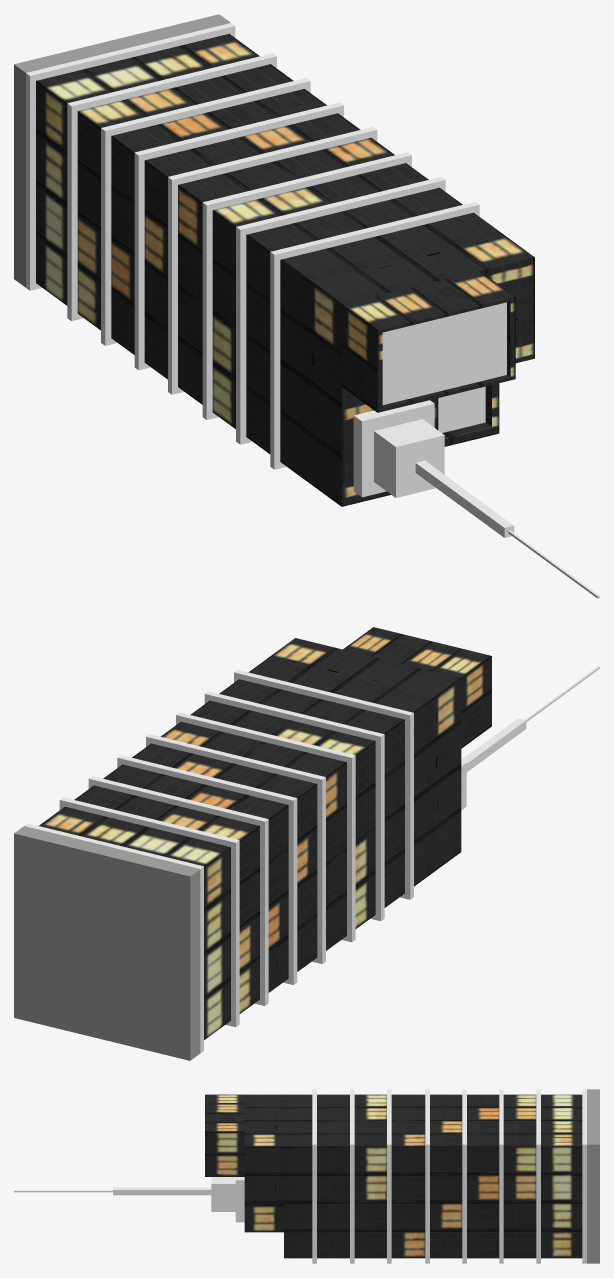
The model's file is 2110Real.obj.
3 renders of one model, top to bottom at view 1: azimuth 30°, elevation 25°; view 2: azimuth 150°, elevation 25°; view 3: azimuth 270°, elevation 25°, orthographic. The views are drawn at different scales.
Visible parts, largest first — view 1: object_3, object_8, object_1, object_2, object_18, object_15, object_14, object_11, object_16, object_10, object_12, object_17 (+5 smaller); view 2: object_3, object_18, object_8, object_1, object_14, object_11, object_16, object_15, object_10, object_13, object_12, object_17 (+1 smaller); view 3: object_3, object_8, object_1, object_18, object_6, object_7, object_10, object_11, object_12, object_13, object_14, object_15 (+4 smaller).
Boxes of the visible parts, left/top/right/bottom form: object_3: left=36, top=33, right=499, bottom=480; object_8: left=306, top=231, right=534, bottom=506; object_1: left=341, top=271, right=515, bottom=412; object_2: left=382, top=302, right=506, bottom=404; object_18: left=14, top=14, right=230, bottom=287; object_15: left=101, top=78, right=310, bottom=345; object_14: left=134, top=102, right=343, bottom=370; object_11: left=236, top=177, right=445, bottom=444; object_16: left=67, top=53, right=276, bottom=321; object_10: left=270, top=202, right=479, bottom=469; object_12: left=202, top=152, right=411, bottom=419; object_17: left=26, top=23, right=235, bottom=290; object_3: left=39, top=660, right=430, bottom=1039; object_18: left=14, top=826, right=200, bottom=1060; object_8: left=265, top=638, right=461, bottom=873; object_1: left=343, top=627, right=491, bottom=748; object_14: left=117, top=755, right=297, bottom=984; object_11: left=204, top=691, right=384, bottom=921; object_16: left=59, top=797, right=239, bottom=1027; object_15: left=88, top=776, right=268, bottom=1005; object_10: left=234, top=670, right=413, bottom=899; object_13: left=146, top=734, right=325, bottom=963; object_12: left=176, top=712, right=355, bottom=942; object_17: left=24, top=823, right=203, bottom=1053; object_3: left=284, top=1094, right=582, bottom=1258; object_8: left=244, top=1094, right=283, bottom=1232; object_1: left=205, top=1094, right=244, bottom=1176; object_18: left=587, top=1089, right=599, bottom=1263; object_6: left=113, top=1187, right=211, bottom=1195; object_7: left=211, top=1177, right=235, bottom=1211; object_10: left=312, top=1089, right=316, bottom=1263; object_11: left=350, top=1089, right=354, bottom=1263; object_12: left=387, top=1089, right=391, bottom=1263; object_13: left=425, top=1089, right=429, bottom=1263; object_14: left=462, top=1089, right=466, bottom=1263; object_15: left=499, top=1089, right=503, bottom=1263.
Size of the model in its own units: 3.19 by 3.19 by 14.3.
Materials: 4 (1 with a texture image).
